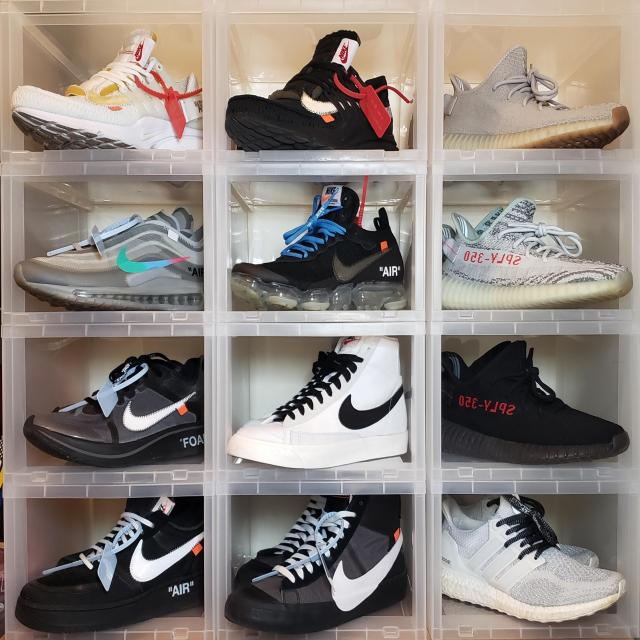shoe: (225, 497, 410, 636), (15, 500, 206, 634), (442, 337, 630, 468), (443, 494, 628, 626), (227, 339, 410, 470), (13, 32, 203, 155), (231, 185, 409, 310), (225, 29, 401, 151), (445, 197, 634, 310), (23, 354, 206, 468), (13, 206, 205, 314), (442, 46, 630, 152)
